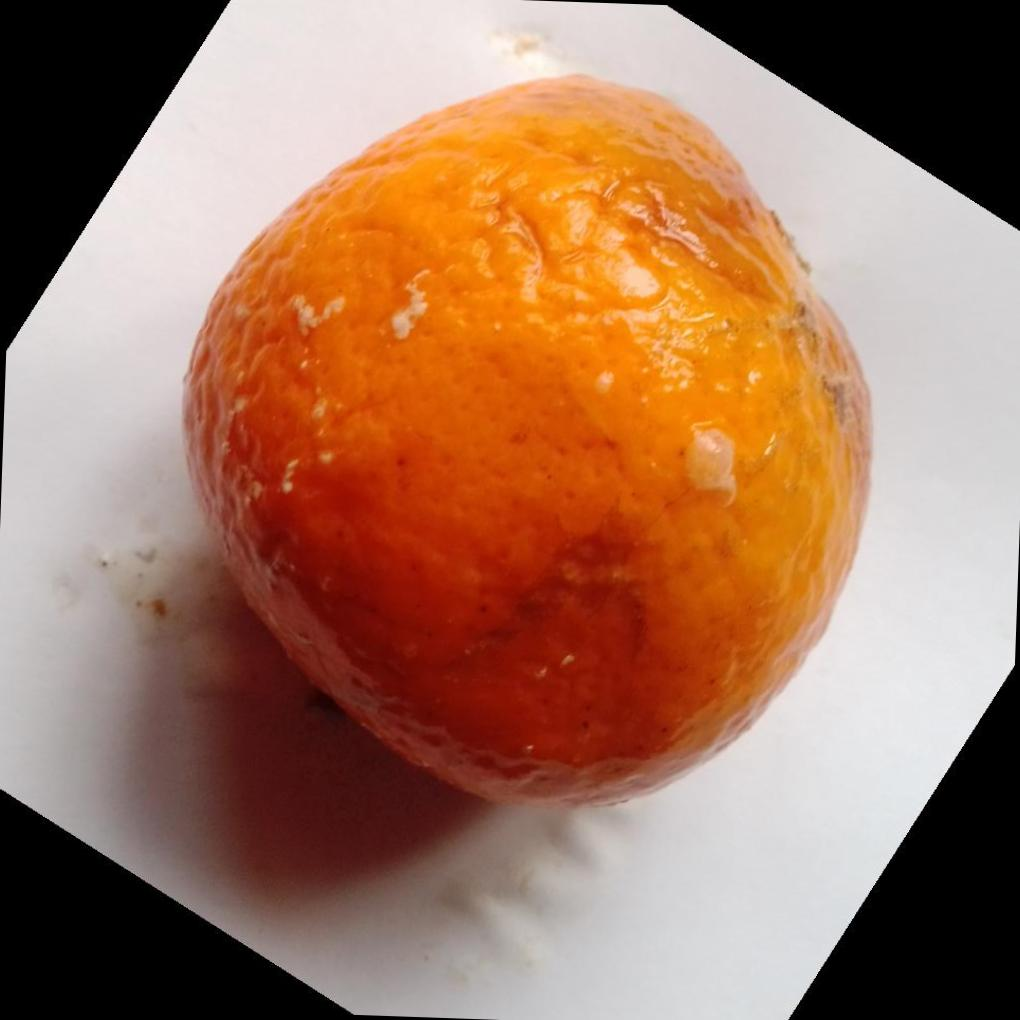FreshOrange: (178, 71, 872, 808)
